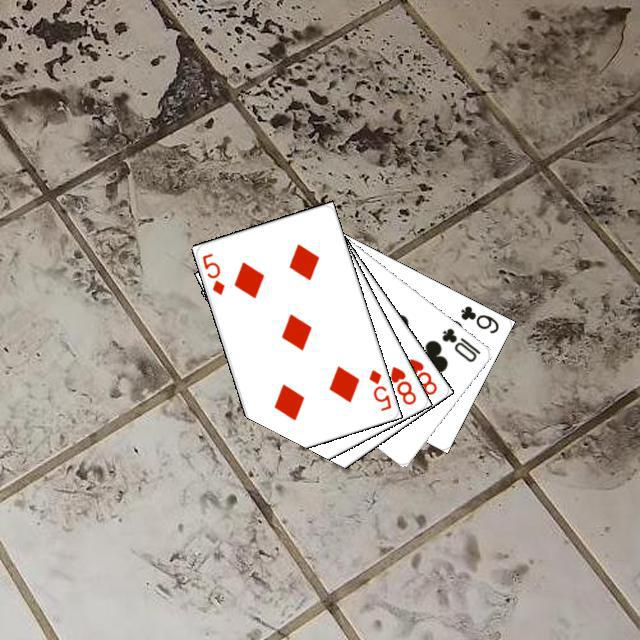10c: (437, 323, 482, 364)
5d: (364, 364, 393, 413), (197, 248, 226, 297)
6c: (456, 301, 501, 335)
8h: (403, 354, 439, 397), (385, 361, 418, 407)
